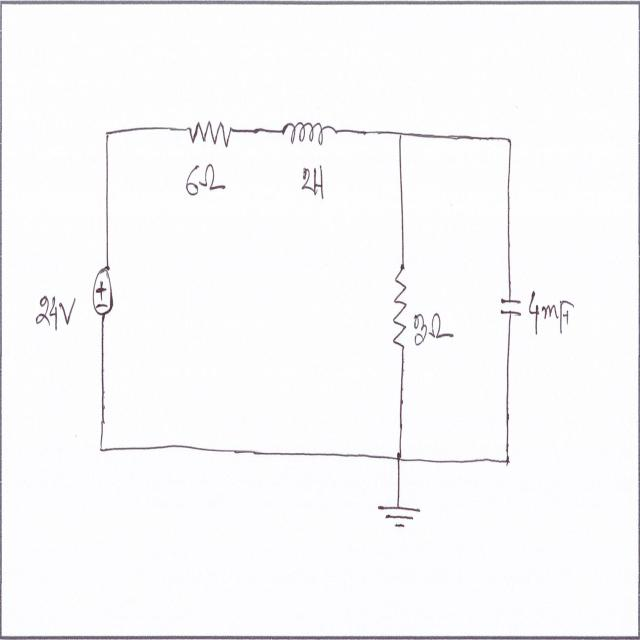capacitor: (499, 287, 523, 328)
ground: (374, 497, 425, 537)
inductor: (280, 110, 334, 151)
resistor: (187, 114, 233, 156), (392, 261, 411, 360)
voltage_source: (91, 261, 117, 327)
